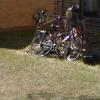Bicycle: (24, 6, 87, 63)
